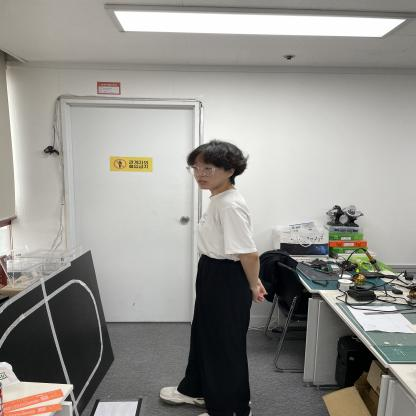normal: (161, 132, 281, 416)
